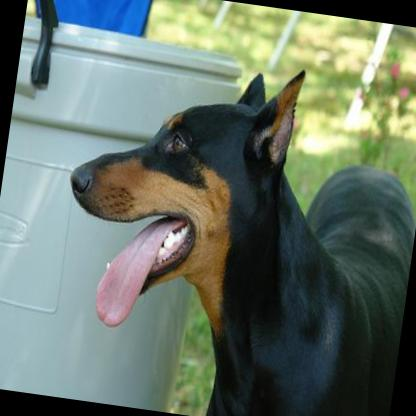Doberman: (37, 36, 416, 416)
